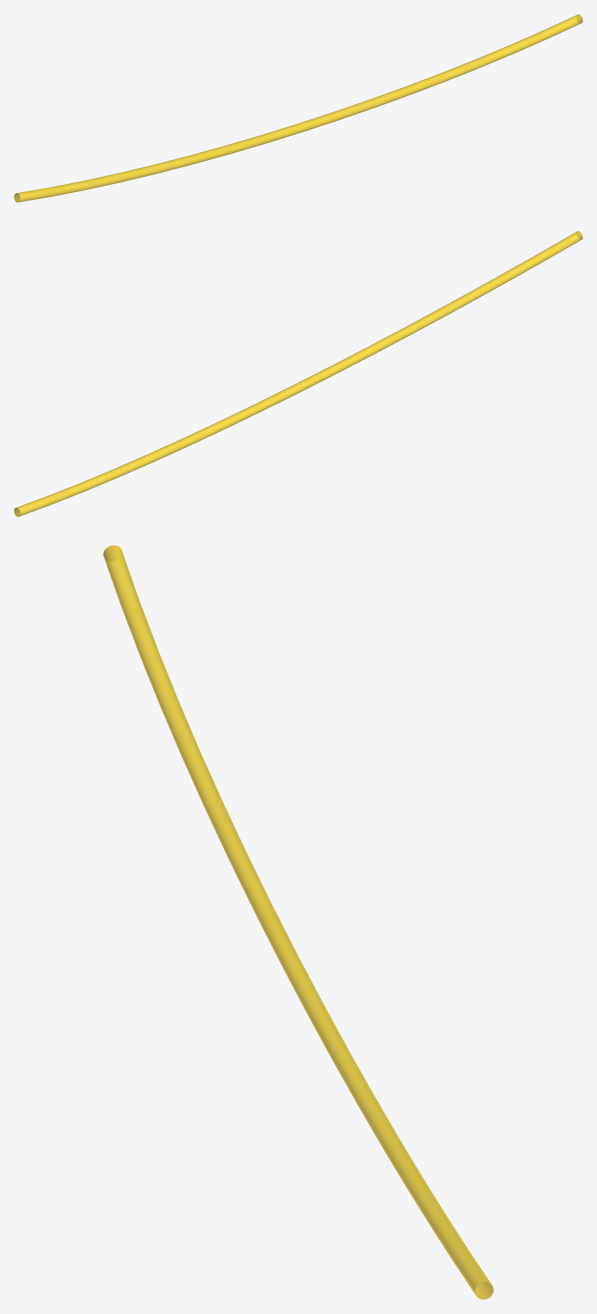
Rendered from Event_27938768_track_84.fbx.
3 renders of one model, top to bottom at view 1: azimuth 30°, elevation 25°; view 2: azimuth 210°, elevation 25°; view 3: azimuth 270°, elevation 25°, orthographic. The views are drawn at different scales.
Visible parts, largest first — view 1: Model; view 2: Model; view 3: Model.
Part boxes in pixels (x1=…): Model: x1=14, y1=14, x2=582, y2=202; Model: x1=14, y1=231, x2=582, y2=516; Model: x1=103, y1=545, x2=493, y2=1299.
Size of the model in its own units: 3.15 by 0.2742 by 0.8102.
